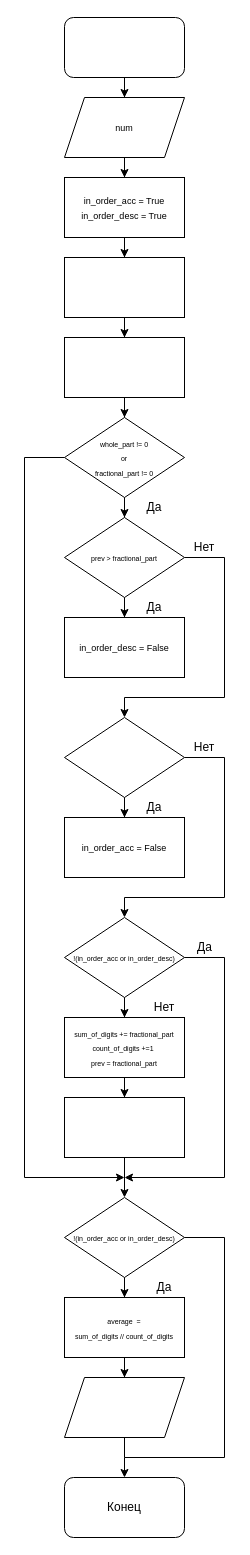
The diagram is 250 pixels wide and 1555 high, and some of its shapes have lost their labels. Each missing label, with the box of its shape:
average: (64, 1376, 184, 1438)
fractional_part = whole_part % 10 whole_part //= 10: (64, 1096, 184, 1158)
prev < fractional_part: (64, 716, 184, 798)
sum_of_digits = 0 count_of_digits = 0: (64, 336, 184, 398)
whole_part = num // 10 fractional_part = num % 10 prev = fractional_part: (64, 256, 184, 318)
Начало: (64, 16, 184, 78)
